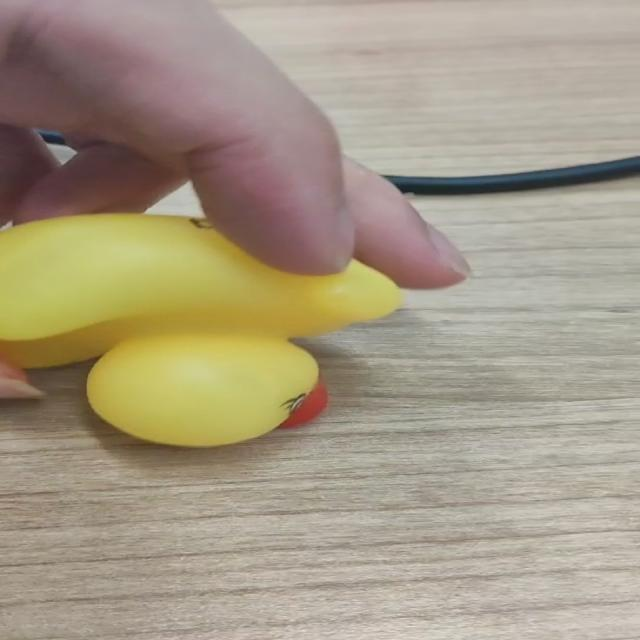rubber-duck: (0, 213, 399, 444)
